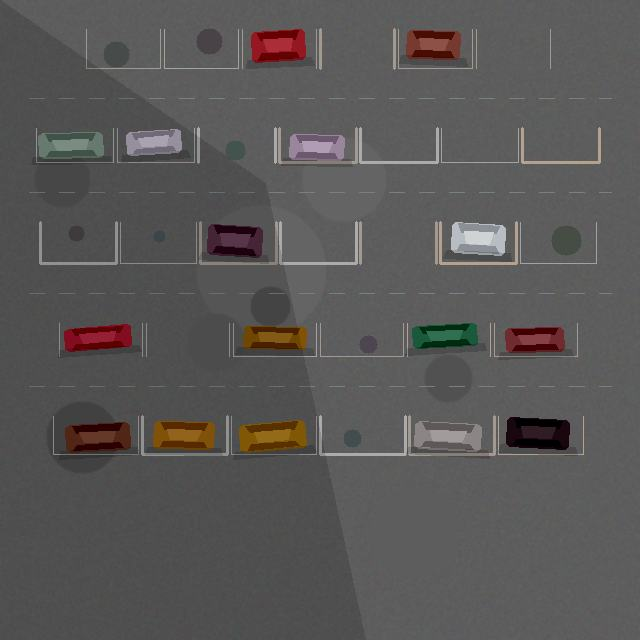space-empty: (320, 416, 405, 454), (40, 222, 116, 263), (120, 222, 196, 263), (280, 222, 356, 263), (360, 222, 436, 263), (520, 222, 596, 263), (86, 29, 160, 68), (164, 29, 238, 68), (320, 29, 394, 68), (476, 29, 550, 68), (146, 323, 229, 356), (320, 323, 403, 356), (198, 128, 275, 162), (360, 128, 437, 162), (441, 128, 518, 162), (522, 128, 599, 162)
space-occupied: (53, 416, 138, 454), (142, 416, 227, 454), (231, 416, 316, 454), (409, 416, 494, 454), (498, 416, 583, 454), (200, 222, 276, 263), (440, 222, 516, 263), (242, 29, 316, 68), (398, 29, 472, 68), (59, 323, 142, 356), (233, 323, 316, 356), (407, 323, 490, 356), (494, 323, 577, 356), (36, 128, 113, 162), (117, 128, 194, 162), (279, 128, 356, 162)
